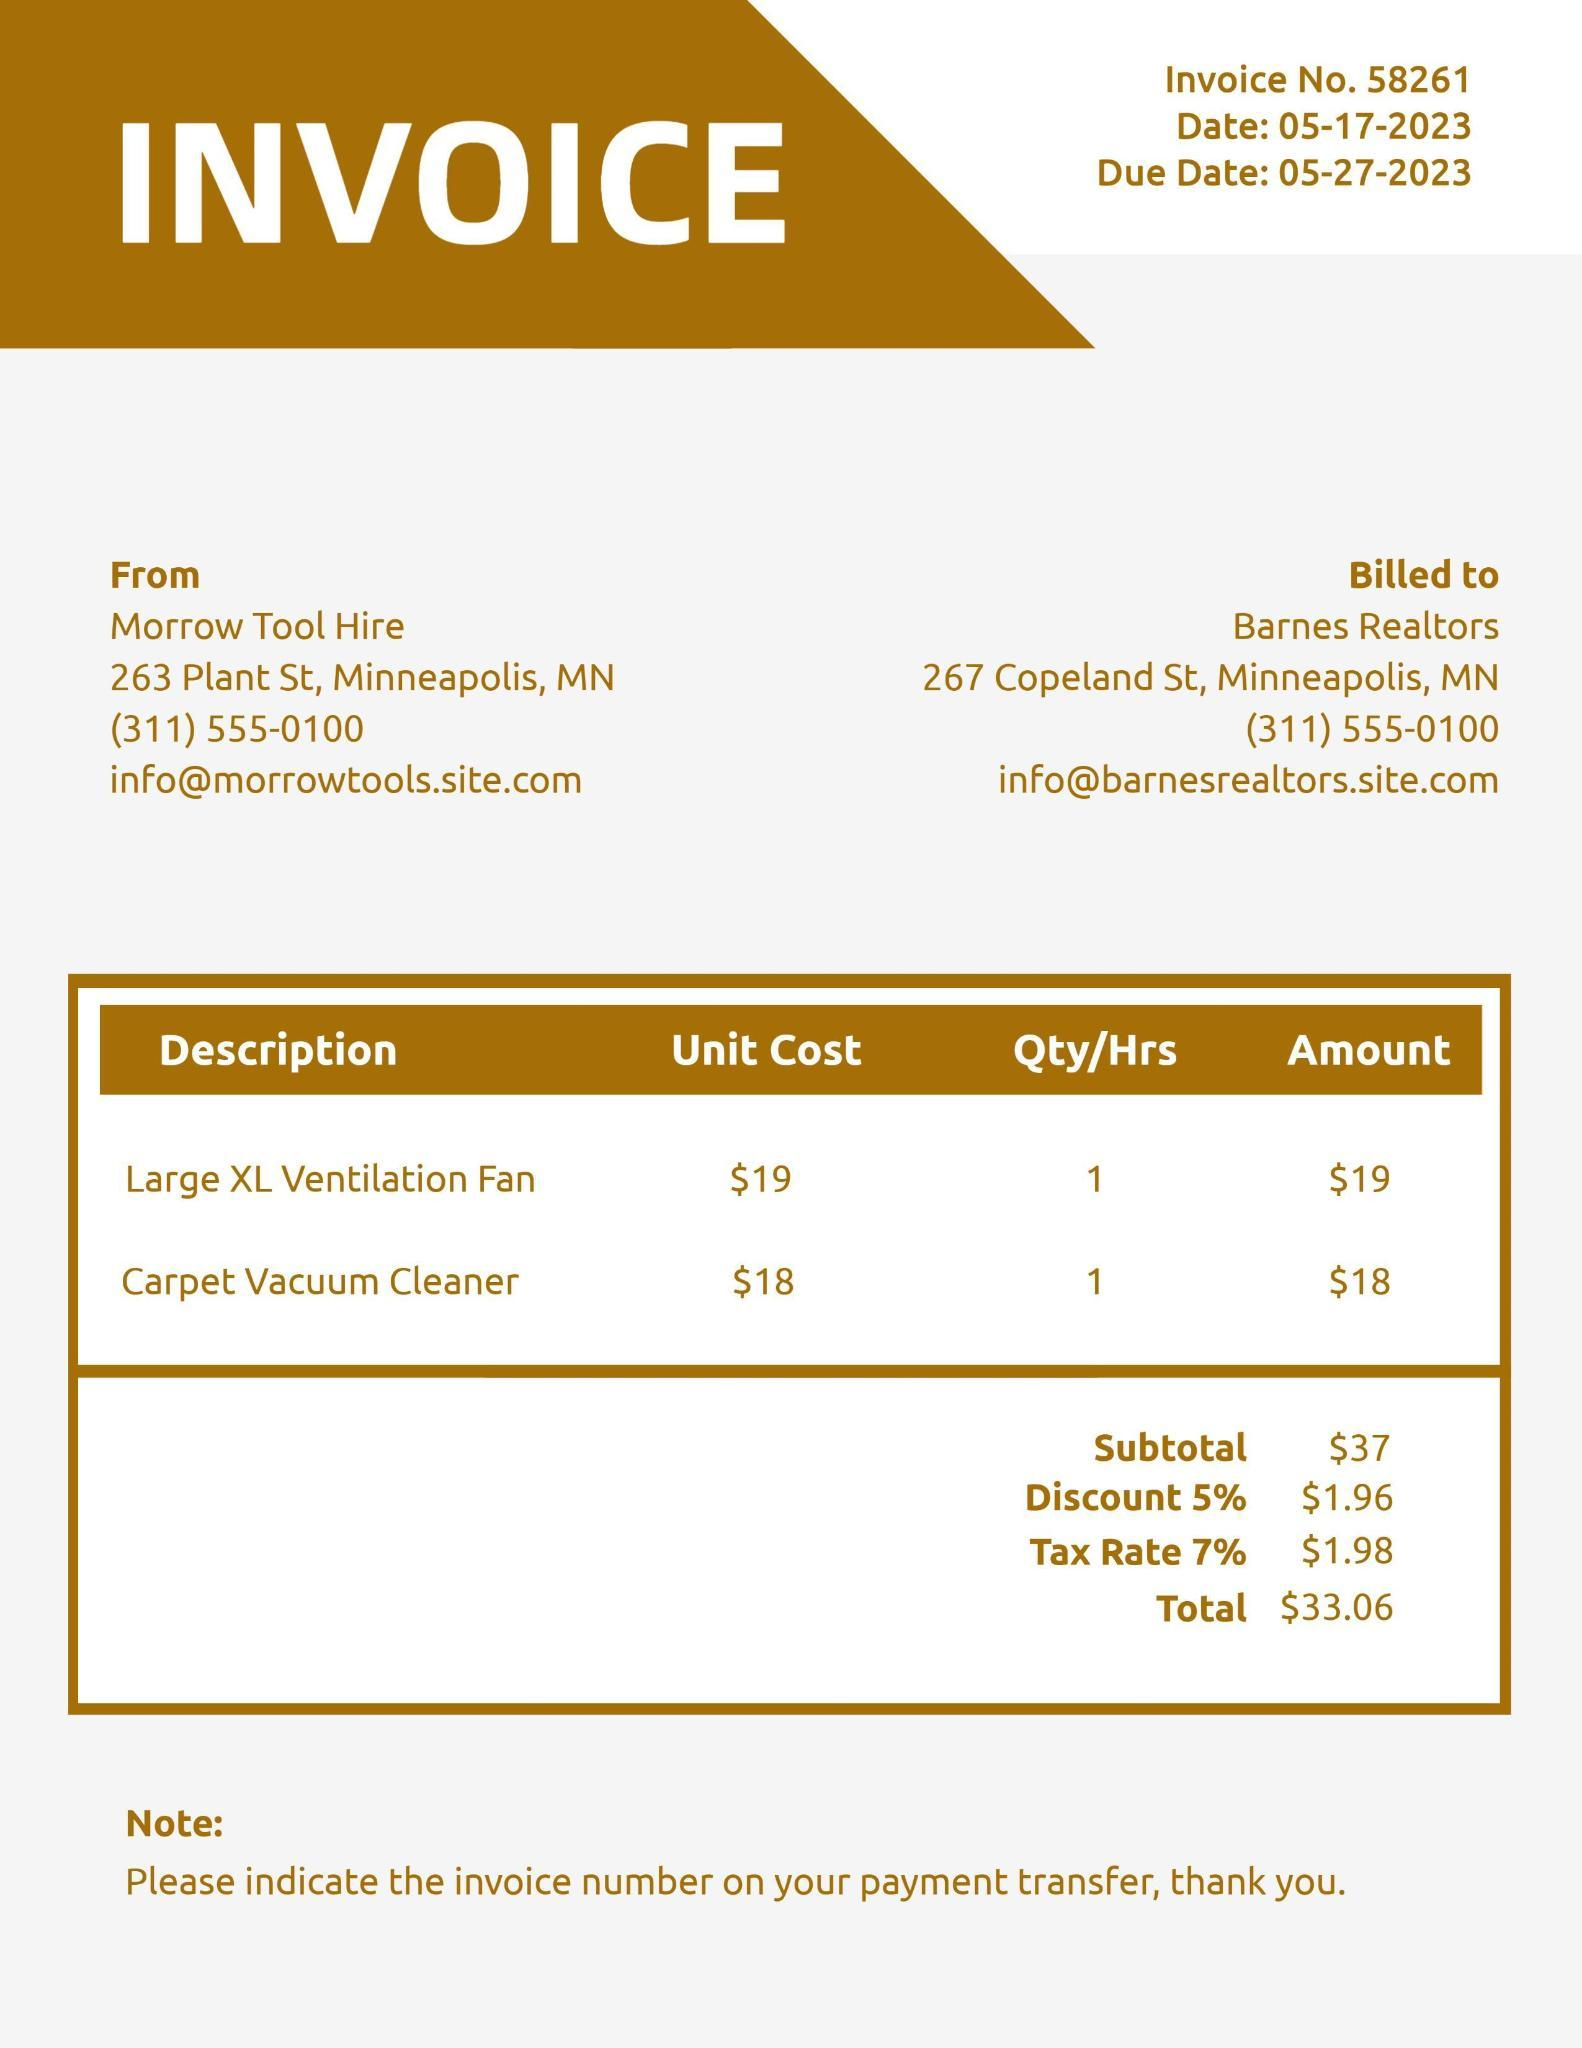ROI: (35, 942, 1535, 1364), (90, 1779, 1544, 1962), (861, 505, 1534, 870), (32, 502, 631, 859), (70, 93, 828, 277), (947, 1394, 1439, 1661), (1035, 18, 1501, 223)
